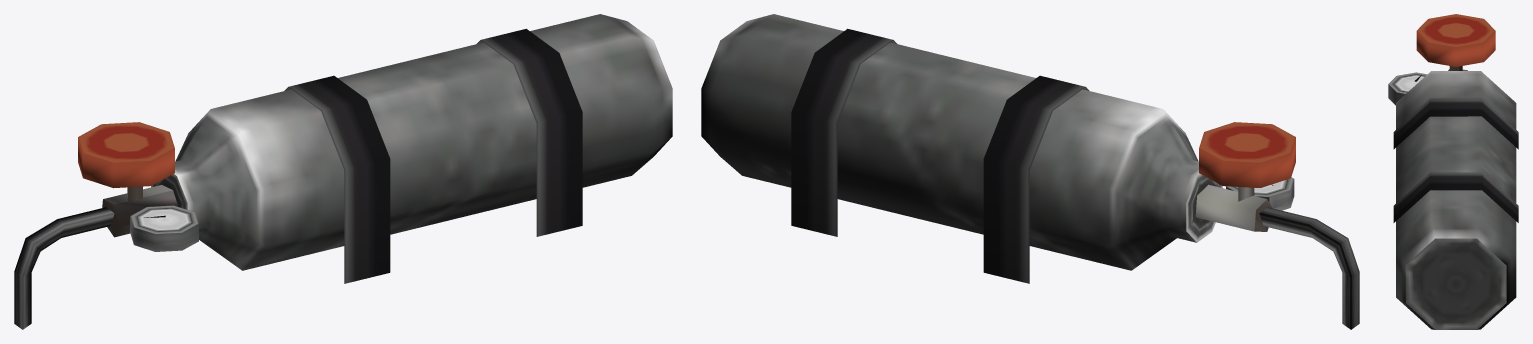
File: nto_b_l.glb
The picture shows the model from 3 angles, left to right: view 1: azimuth 30°, elevation 25°; view 2: azimuth 150°, elevation 25°; view 3: azimuth 270°, elevation 25°; orthographic projection. The views are drawn at different scales.
Parts seen in each view (by area): view 1: nto_b_l; view 2: nto_b_l; view 3: nto_b_l.
Part boxes in pixels (bbox=[...]): nto_b_l: bbox=[14, 14, 672, 329]; nto_b_l: bbox=[701, 14, 1359, 329]; nto_b_l: bbox=[1388, 14, 1518, 329].
Size of the model in its own units: 0.8561 by 0.2082 by 0.1974.
Materials: 2 (2 with a texture image).
